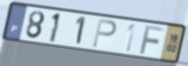1: (49, 12, 62, 43), (75, 16, 86, 47), (126, 23, 137, 53)
8: (25, 10, 46, 40)
F: (138, 24, 166, 56)
P: (91, 18, 118, 49)
